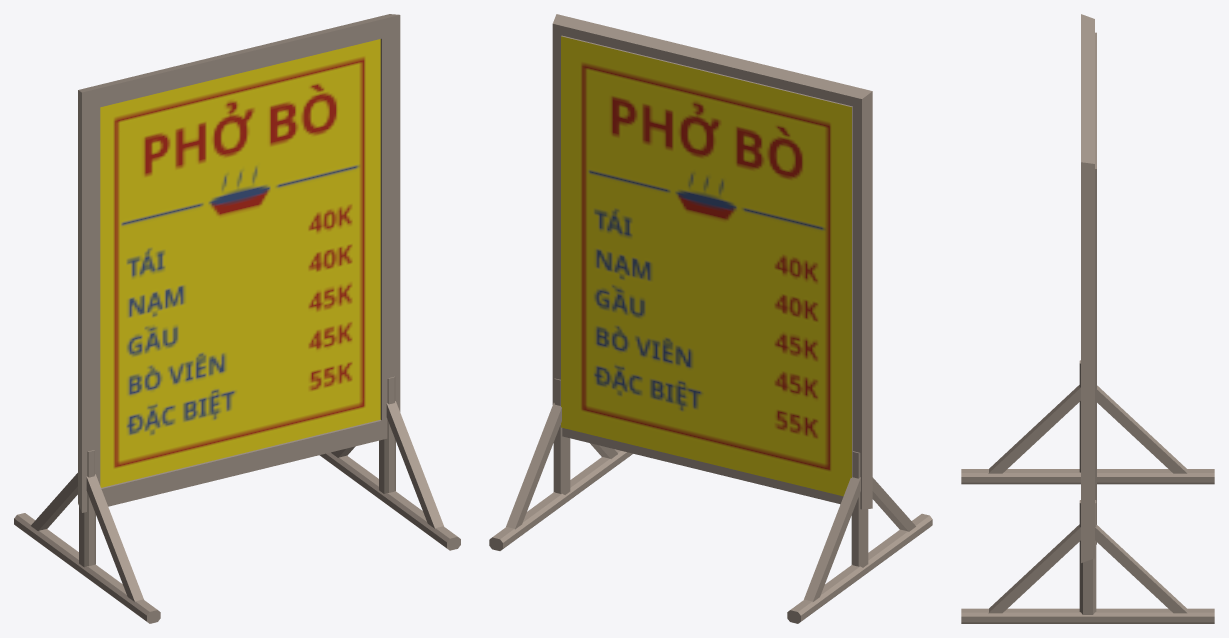
File: SM_Sign_MenuPoster_PhoBo_01.fbx
3 views of the same model, side by side, from view 1: azimuth 30°, elevation 25°; view 2: azimuth 150°, elevation 25°; view 3: azimuth 270°, elevation 25° (orthographic). The views are drawn at different scales.
Visible parts, largest first — view 1: SM_Sign_MenuPoster_PhoBo_01; view 2: SM_Sign_MenuPoster_PhoBo_01; view 3: SM_Sign_MenuPoster_PhoBo_01.
Part boxes in pixels (x1,y1,x2,y2): SM_Sign_MenuPoster_PhoBo_01: (14,14,460,623); SM_Sign_MenuPoster_PhoBo_01: (489,14,932,623); SM_Sign_MenuPoster_PhoBo_01: (961,14,1214,623).
Bounding box in the file's own units: 0.554 × 0.809 × 0.4.
Materials: 1 (1 with a texture image).
